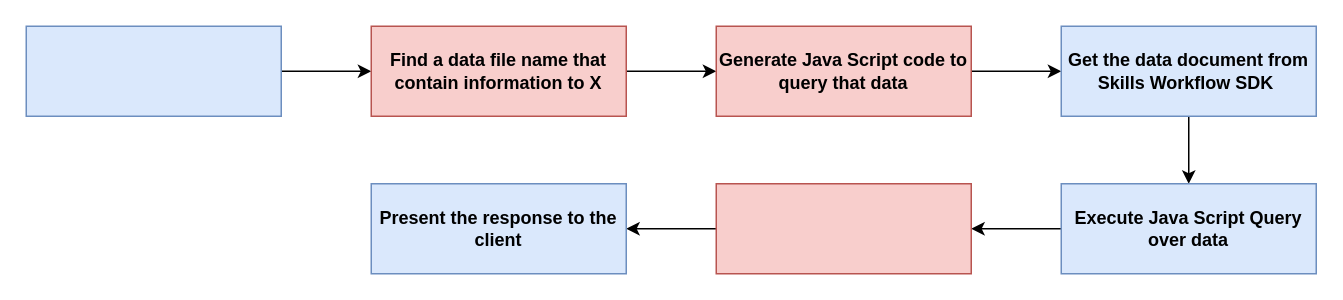
The diagram is 1343 pixels wide and 300 high, and some of its shapes have lost their labels. Each missing label, with the centre of its shape:
"Get me information about X" goes at (x=153, y=70).
"Produce a structured response to the user based on the query result" goes at (x=843, y=228).
